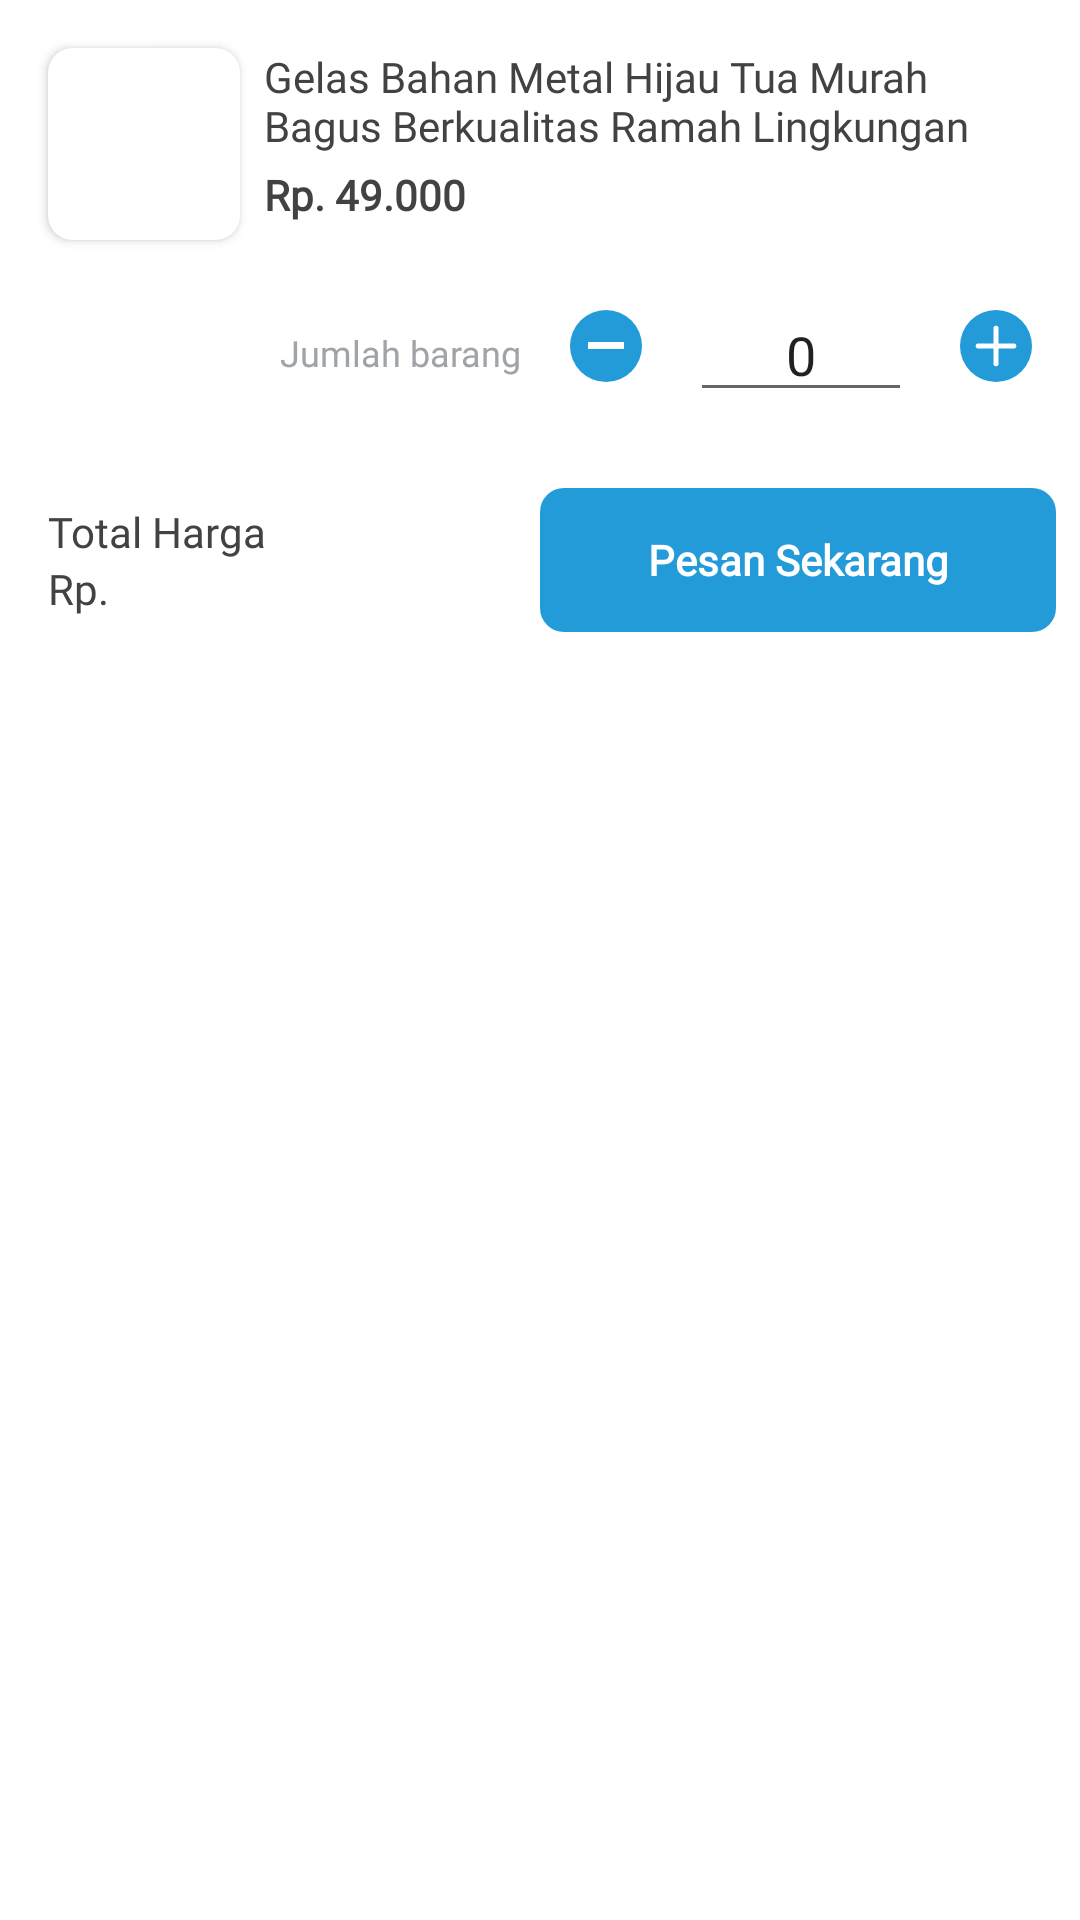

Icon bounding boxes for this 1080px×1920px phone screenshot, format bbox=(x1, y1, x2, y2):
minus: bbox=(570, 310, 642, 382)
plus: bbox=(960, 310, 1032, 382)
